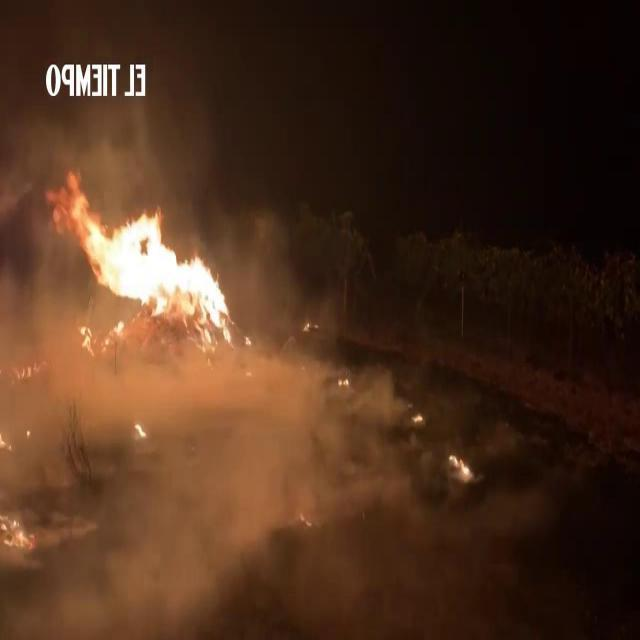Fire: (45, 180, 255, 350), (1, 506, 36, 558), (449, 452, 471, 479), (14, 360, 42, 380), (135, 420, 147, 440), (339, 372, 350, 387), (412, 413, 426, 424), (304, 318, 310, 332)
